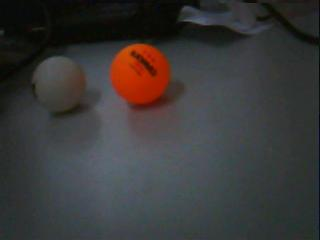oball: (110, 44, 170, 107)
